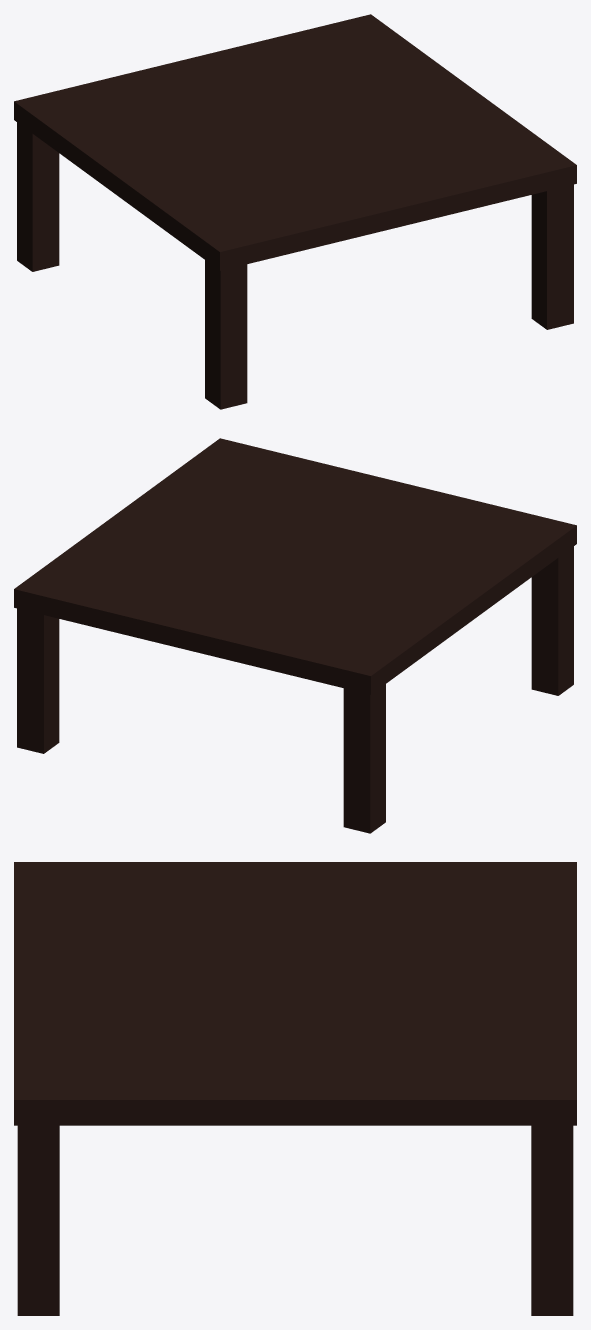
The model's file is Table.fbx.
The picture shows the model from 3 angles, top to bottom: view 1: azimuth 30°, elevation 25°; view 2: azimuth 150°, elevation 25°; view 3: azimuth 270°, elevation 25°; orthographic projection. The views are drawn at different scales.
Parts seen in each view (by area): view 1: Cube, Cube.001; view 2: Cube, Cube.001; view 3: Cube, Cube.001.
Boxes of the visible parts, left/top/right/bottom form: Cube: left=14, top=14, right=576, bottom=270; Cube.001: left=17, top=122, right=573, bottom=409; Cube: left=14, top=438, right=576, bottom=694; Cube.001: left=17, top=546, right=573, bottom=833; Cube: left=14, top=862, right=576, bottom=1125; Cube.001: left=17, top=1125, right=573, bottom=1315.
Size of the model in its own units: 800 by 340 by 800.
